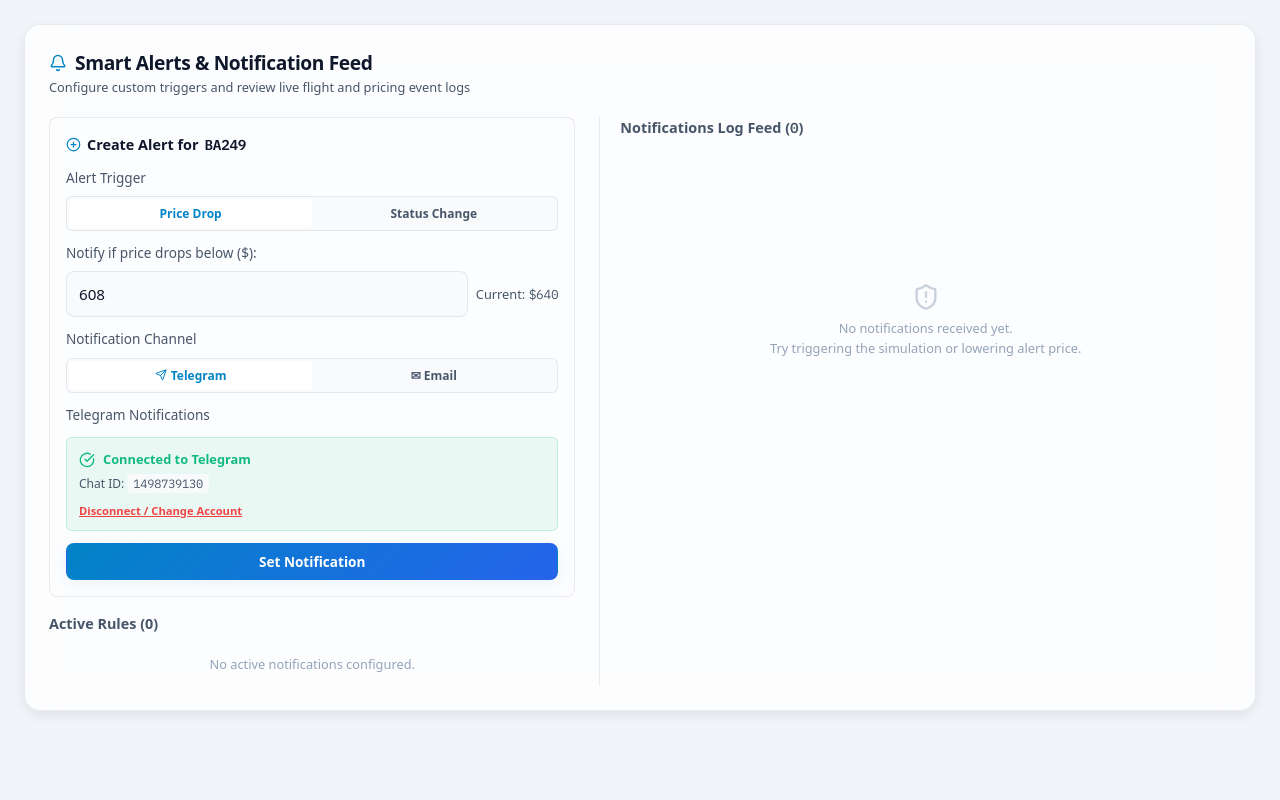
Test: AlertsManager channel target › swaps to the saved email address in a single commit when the channel changes
Click the button "✉ Email": [434, 375] box [312,361,555,390]
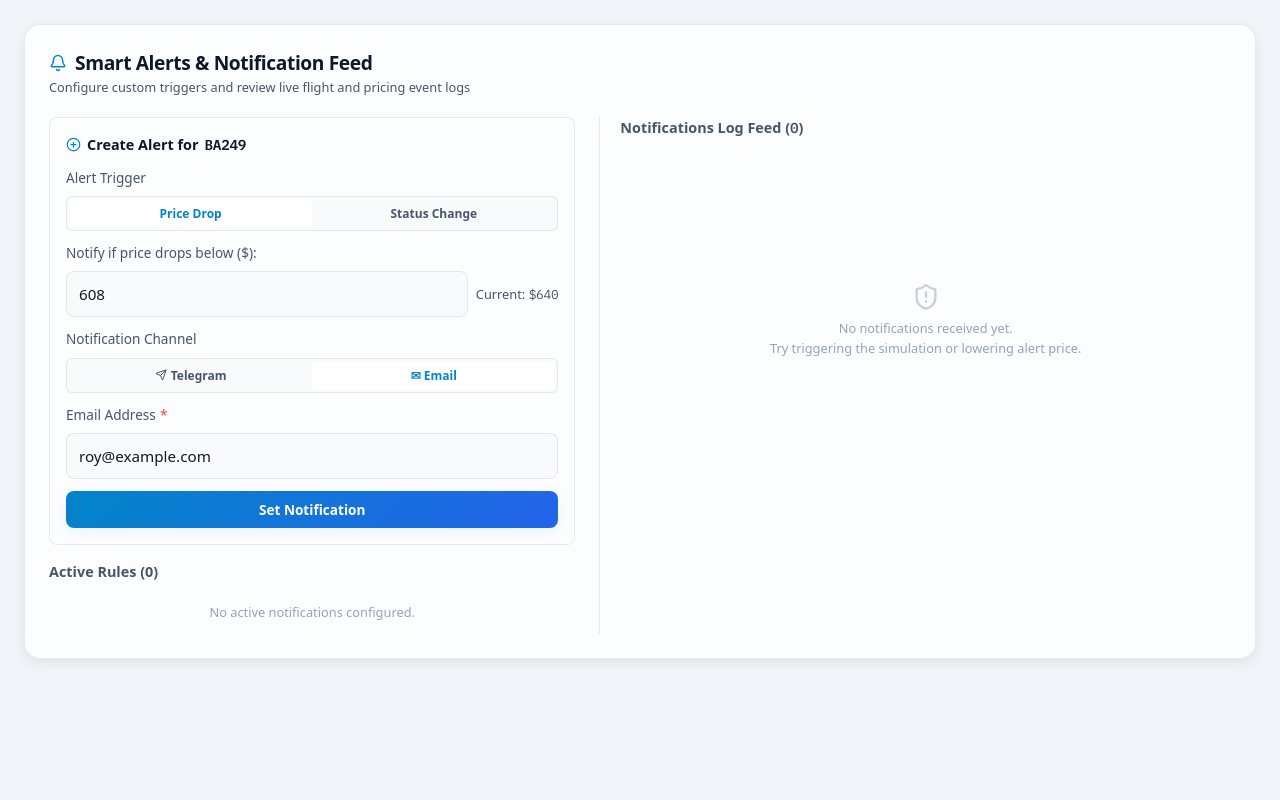
Now the field with placeholder "you@example.com" holds "roy@example.com", box [66,433,558,479]
